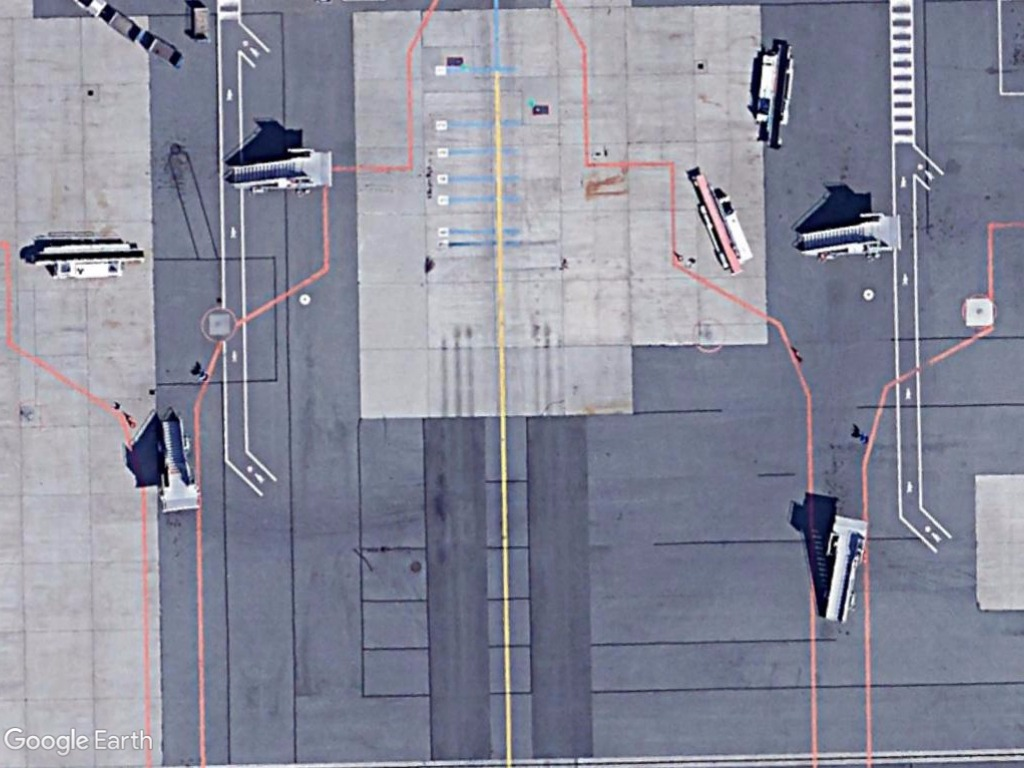stairtruck: (219, 141, 339, 202), (814, 510, 874, 630), (791, 206, 910, 266), (147, 408, 207, 517)
